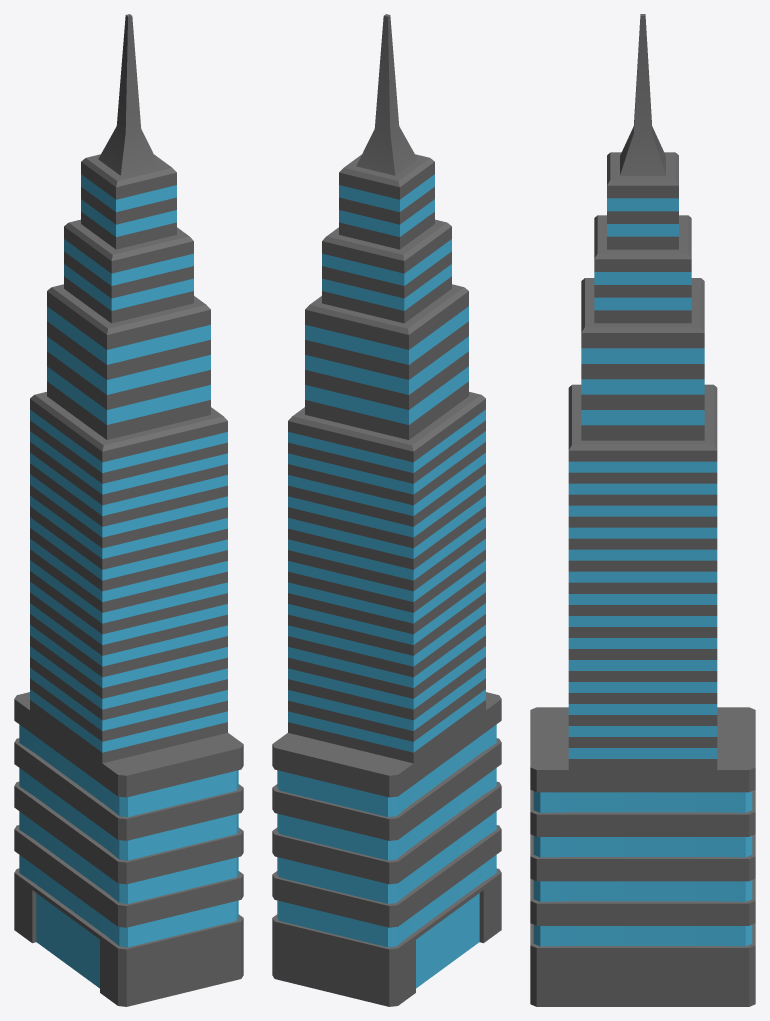
The model's file is Skyscraper_14.fbx.
3 renders of one model, left to right at view 1: azimuth 30°, elevation 25°; view 2: azimuth 150°, elevation 25°; view 3: azimuth 270°, elevation 25°, orthographic. The views are drawn at different scales.
Parts seen in each view (by area): view 1: Skyscraper_14; view 2: Skyscraper_14; view 3: Skyscraper_14.
Boxes of the visible parts, x1,y1,x2,y2 form: Skyscraper_14: (14,14,243,1006); Skyscraper_14: (272,14,501,1006); Skyscraper_14: (530,14,755,1006).
Size of the model in its own units: 25.91 by 185 by 39.28.
